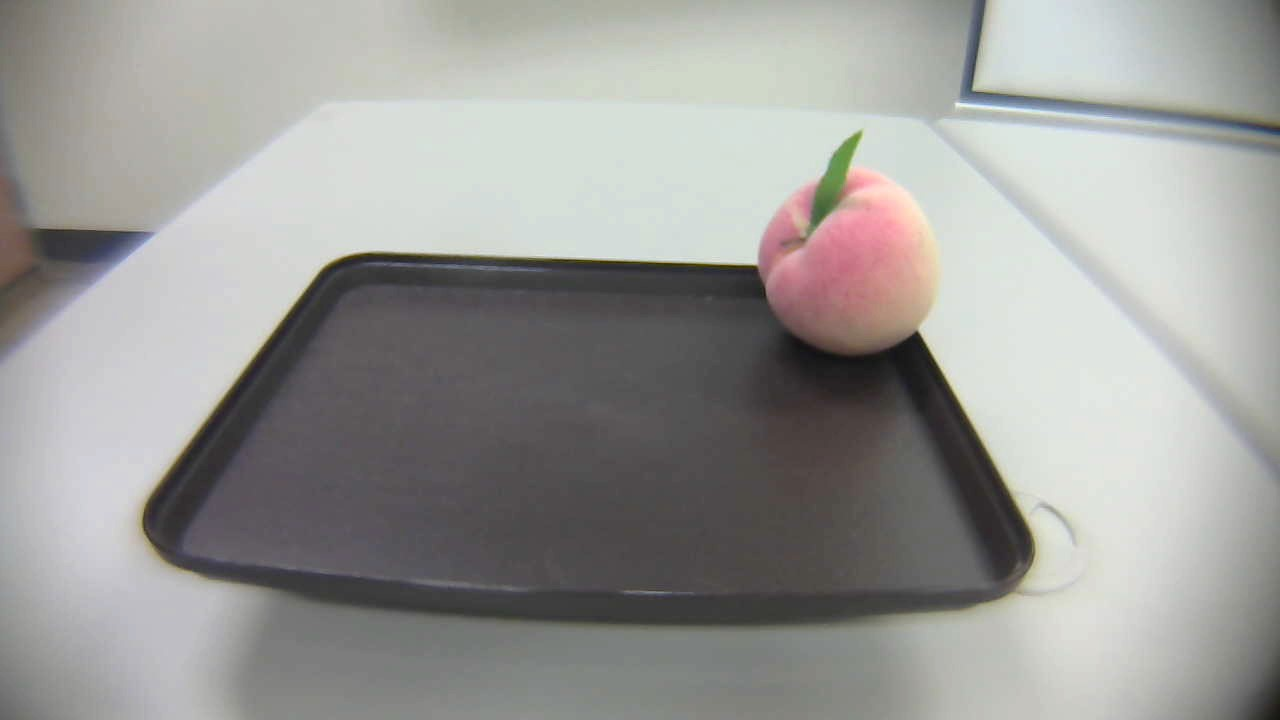peach: (736, 121, 955, 363)
